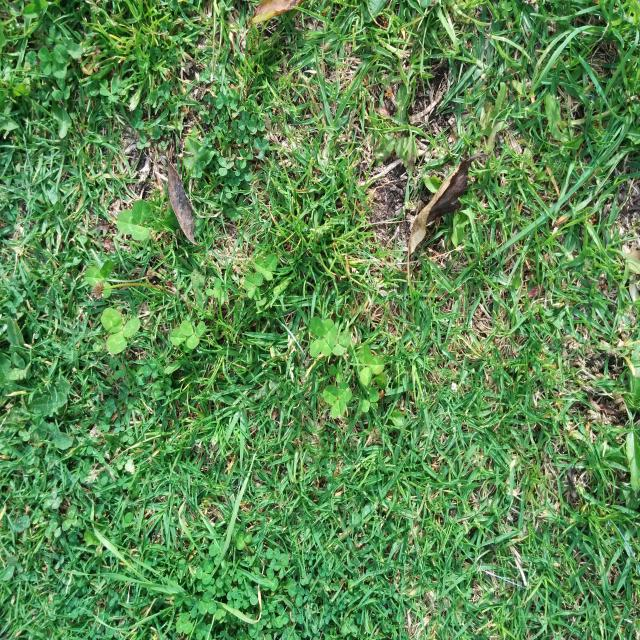Four Leaf Clover: (310, 316, 337, 356)
